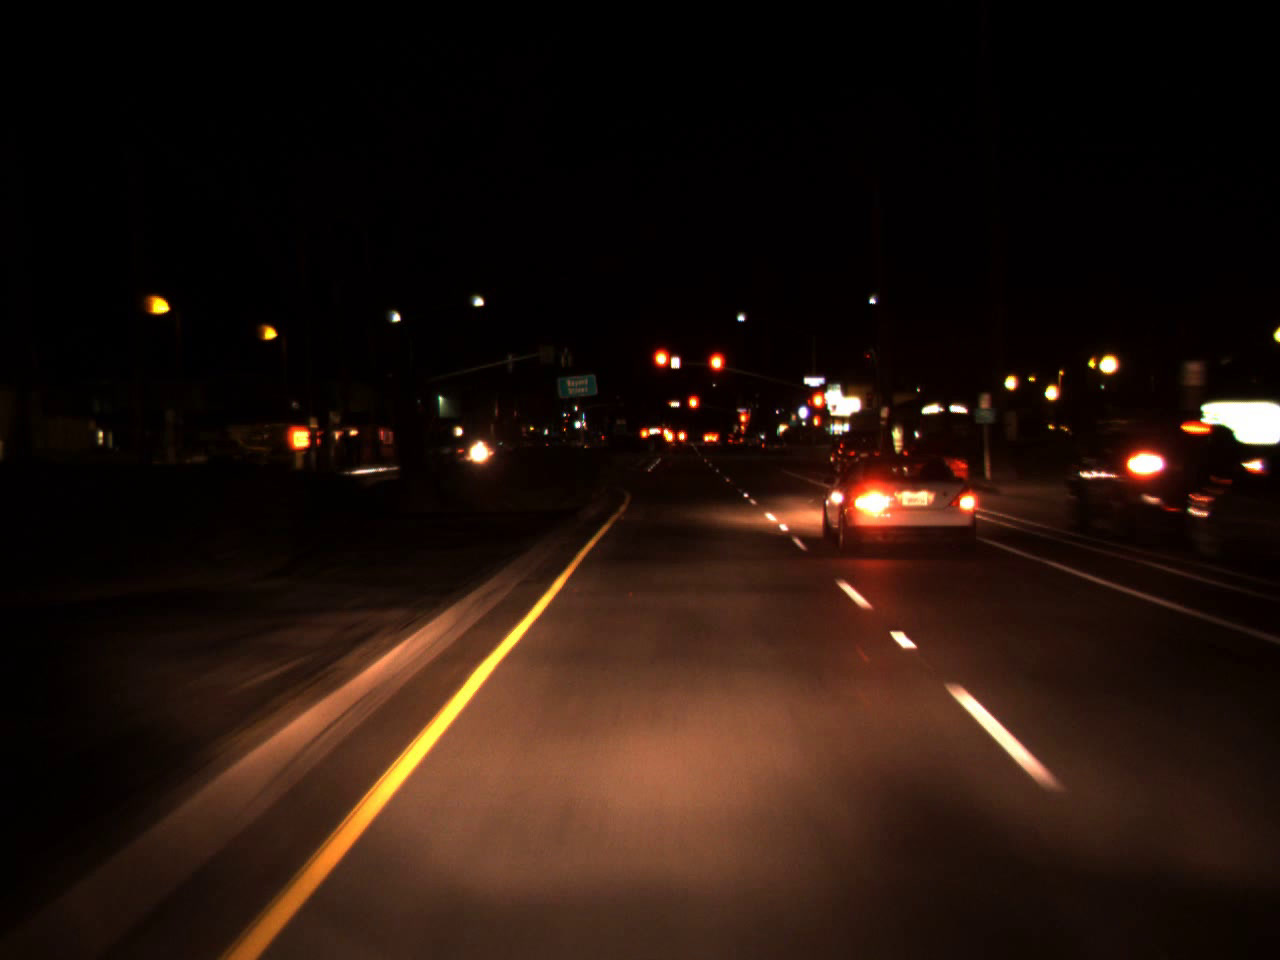stop: (650, 346, 674, 389), (706, 350, 727, 393), (808, 388, 827, 431), (737, 409, 750, 438), (686, 394, 699, 423)
